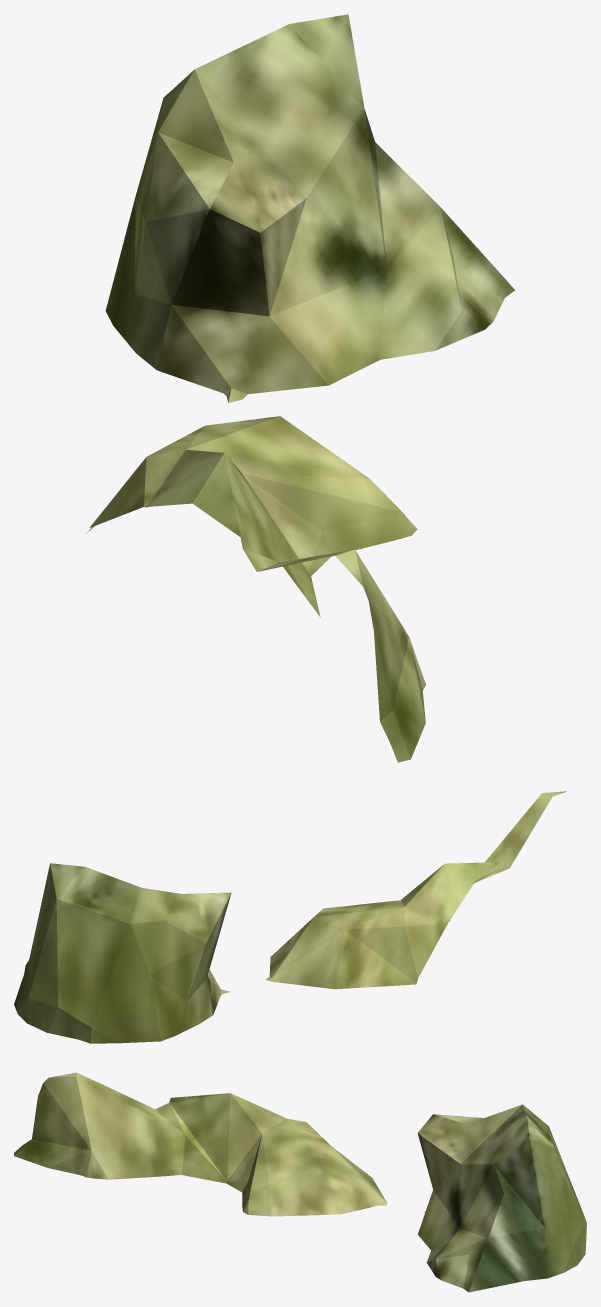
The picture shows the model from 3 angles, top to bottom: view 1: azimuth 30°, elevation 25°; view 2: azimuth 150°, elevation 25°; view 3: azimuth 270°, elevation 25°; orthographic projection. The views are drawn at different scales.
Size of the model in its own units: 0.6825 by 0.3009 by 1.18.
1 material, 1 textured.
